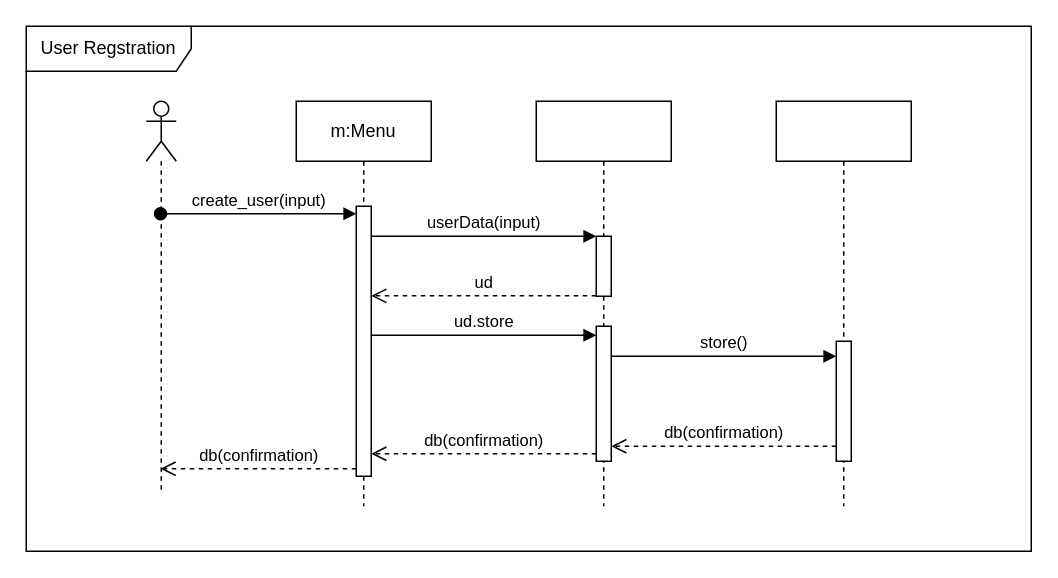
Image size: 1058x578. Some labels were removed from this diagram. The centre of each missing label's shape, as x and y in pixels:
"db:database" goes at [843,303].
"u:User" goes at [603,303].
